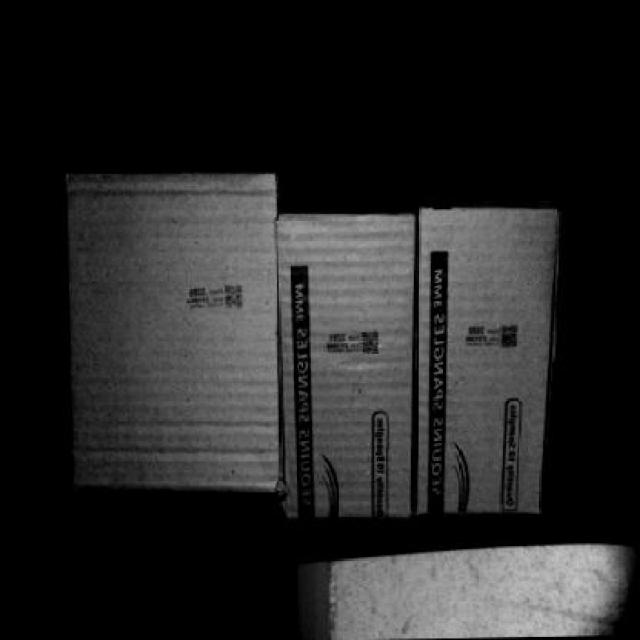cardboxes: (60, 173, 278, 485), (412, 212, 563, 517), (278, 217, 416, 517)
